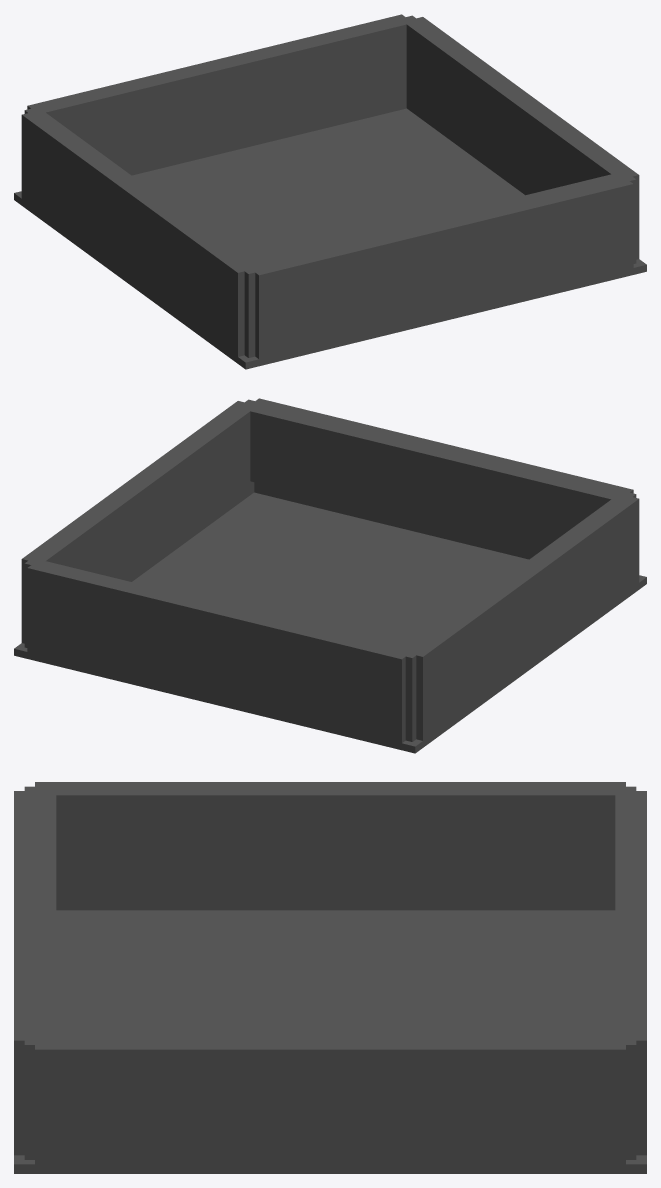
File: Fonte.obj
The picture shows the model from 3 angles, top to bottom: view 1: azimuth 30°, elevation 25°; view 2: azimuth 150°, elevation 25°; view 3: azimuth 270°, elevation 25°; orthographic projection. The views are drawn at different scales.
Size of the model in its own units: 6 by 1.3 by 6.
Materials: 1 (1 with a texture image).
